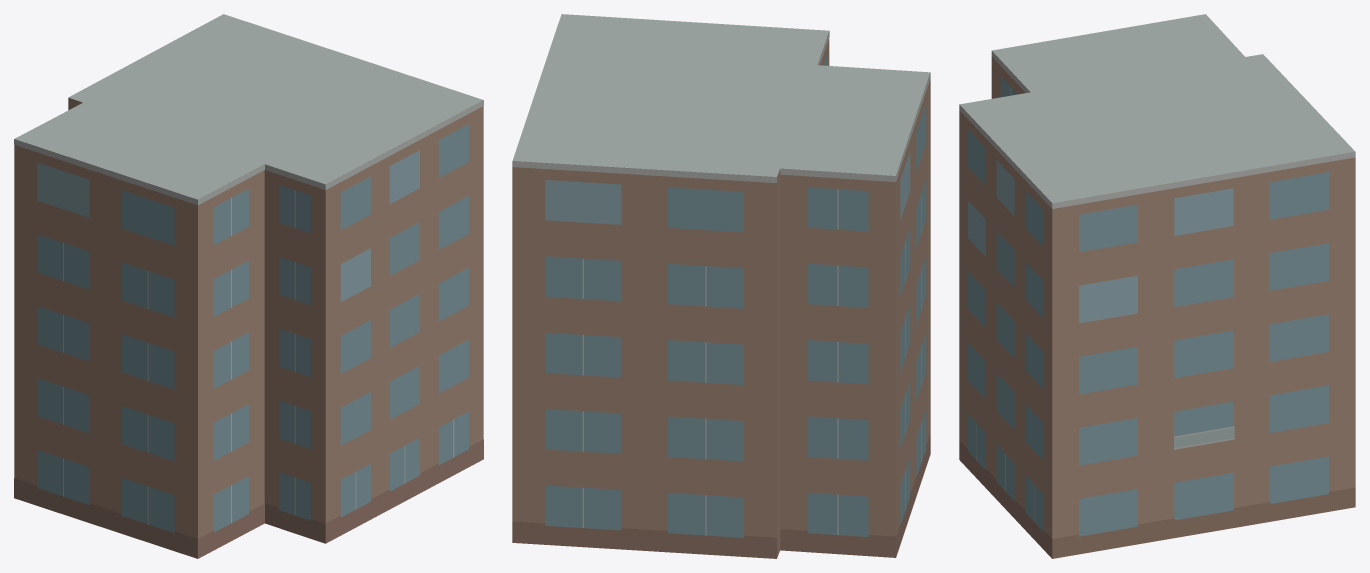
File: survey-upis-32536087.glb
The picture shows the model from 3 angles, left to right: view 1: azimuth 30°, elevation 25°; view 2: azimuth 150°, elevation 25°; view 3: azimuth 270°, elevation 25°; orthographic projection. The views are drawn at different scales.
Parts seen in each view (by area): view 1: survey-upis-32536087.tmp; view 2: survey-upis-32536087.tmp; view 3: survey-upis-32536087.tmp.
Boxes of the visible parts, <box> form: survey-upis-32536087.tmp: <box>14,14,483,558</box>; survey-upis-32536087.tmp: <box>512,14,930,558</box>; survey-upis-32536087.tmp: <box>959,14,1355,558</box>.
Size of the model in its own units: 17.43 by 15.25 by 15.41.
